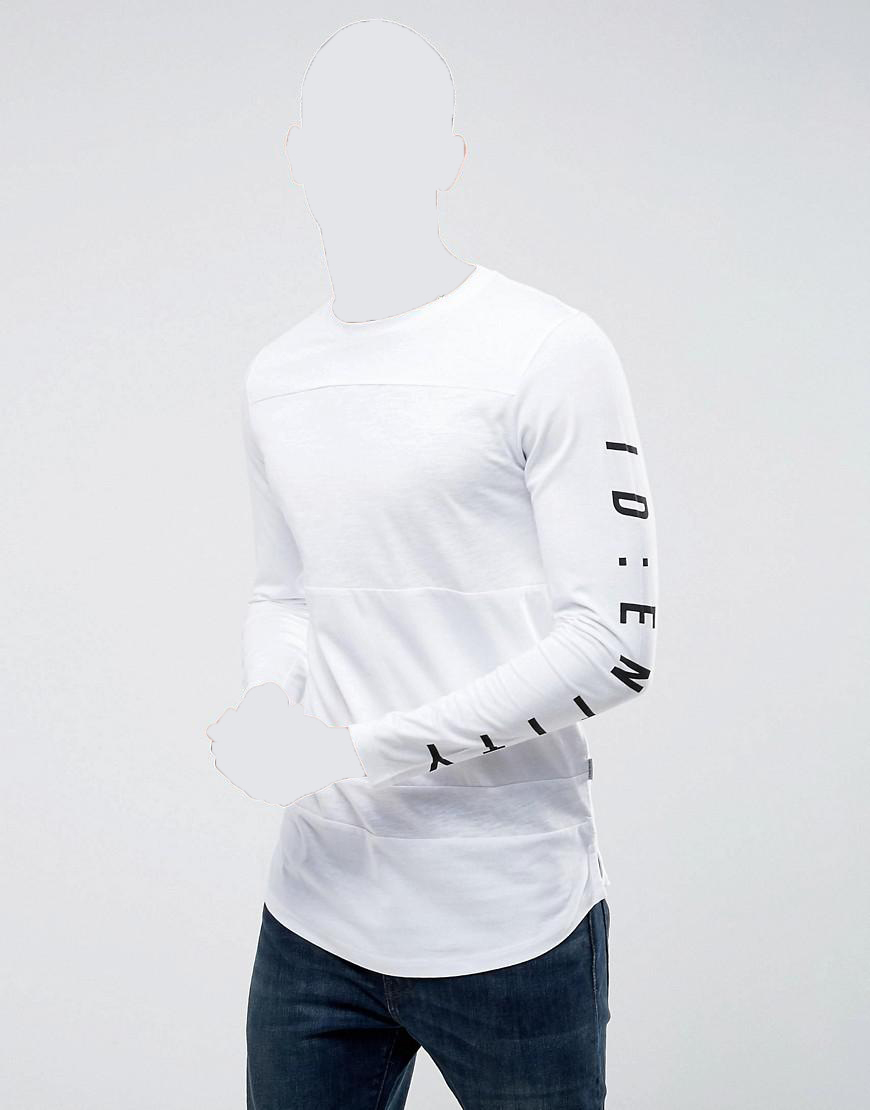teeshirt: (218, 264, 679, 985)
